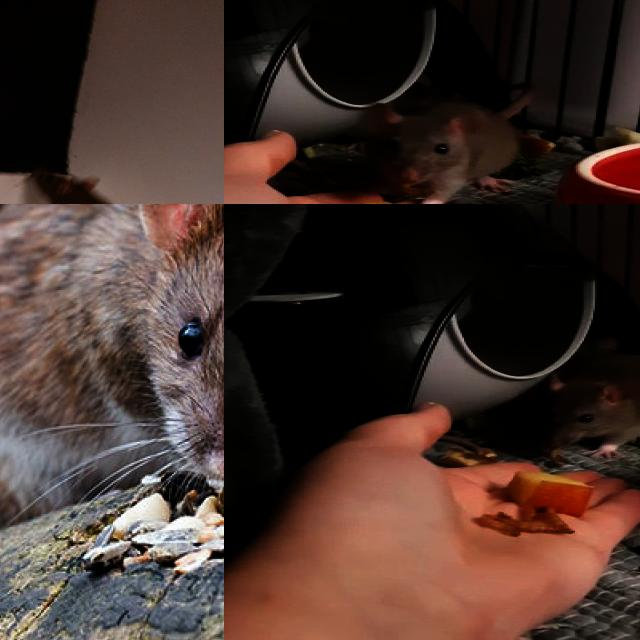rat: (0, 204, 224, 545), (351, 100, 515, 204), (529, 350, 640, 462), (24, 165, 196, 204)
